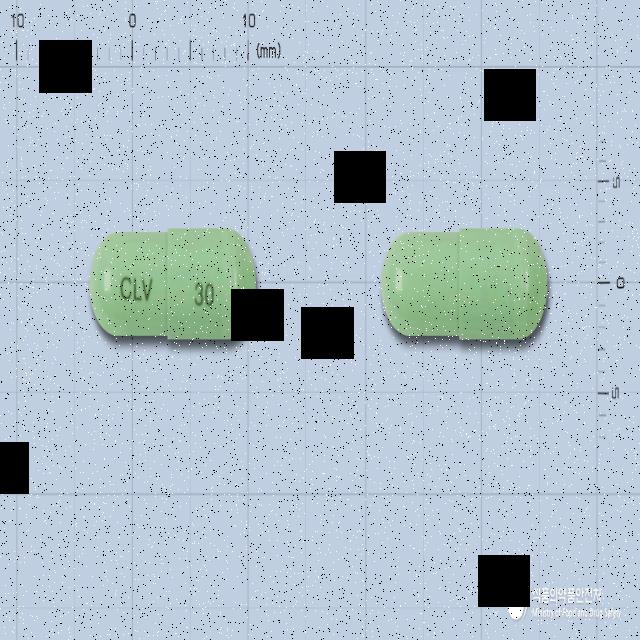Levovir Cap: (88, 227, 257, 341)
